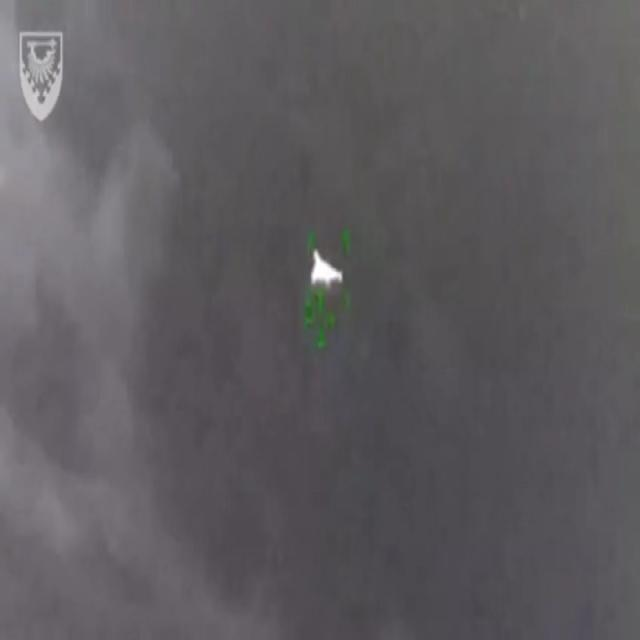drone: (310, 238, 352, 300)
